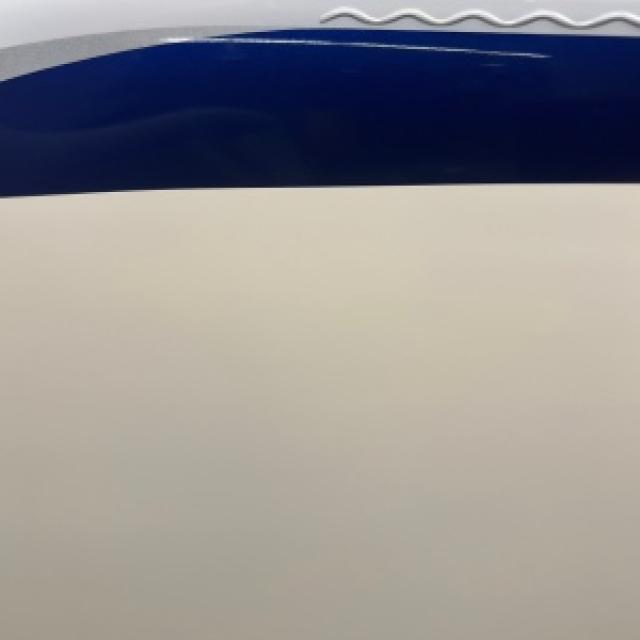healthy: (0, 183, 638, 638), (0, 26, 638, 192)
